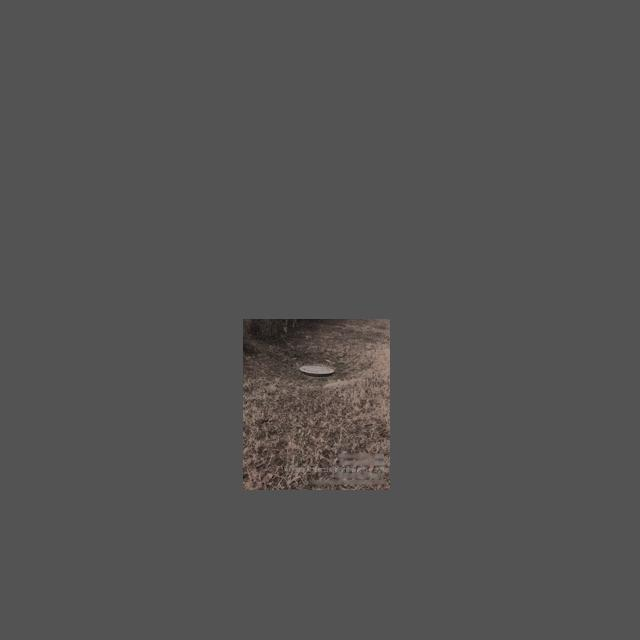uncovered: (299, 365, 335, 377)
